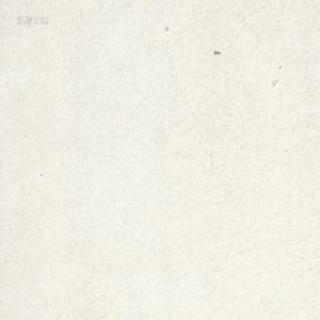Nailtrack_idkeyframe: (213, 48, 220, 54)
